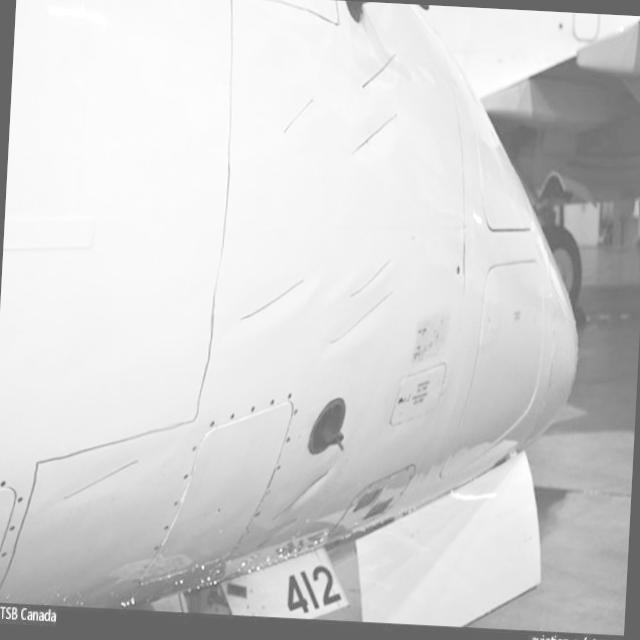dent: (336, 105, 419, 187)
